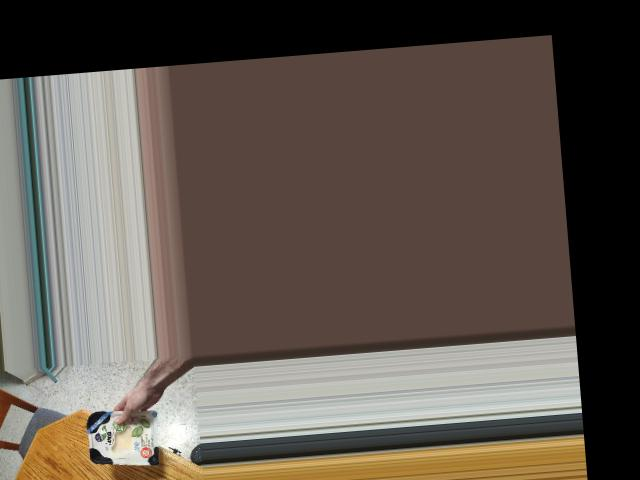cheese: (74, 408, 173, 470)
